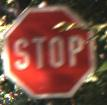Stop sign: (0, 0, 106, 104)
